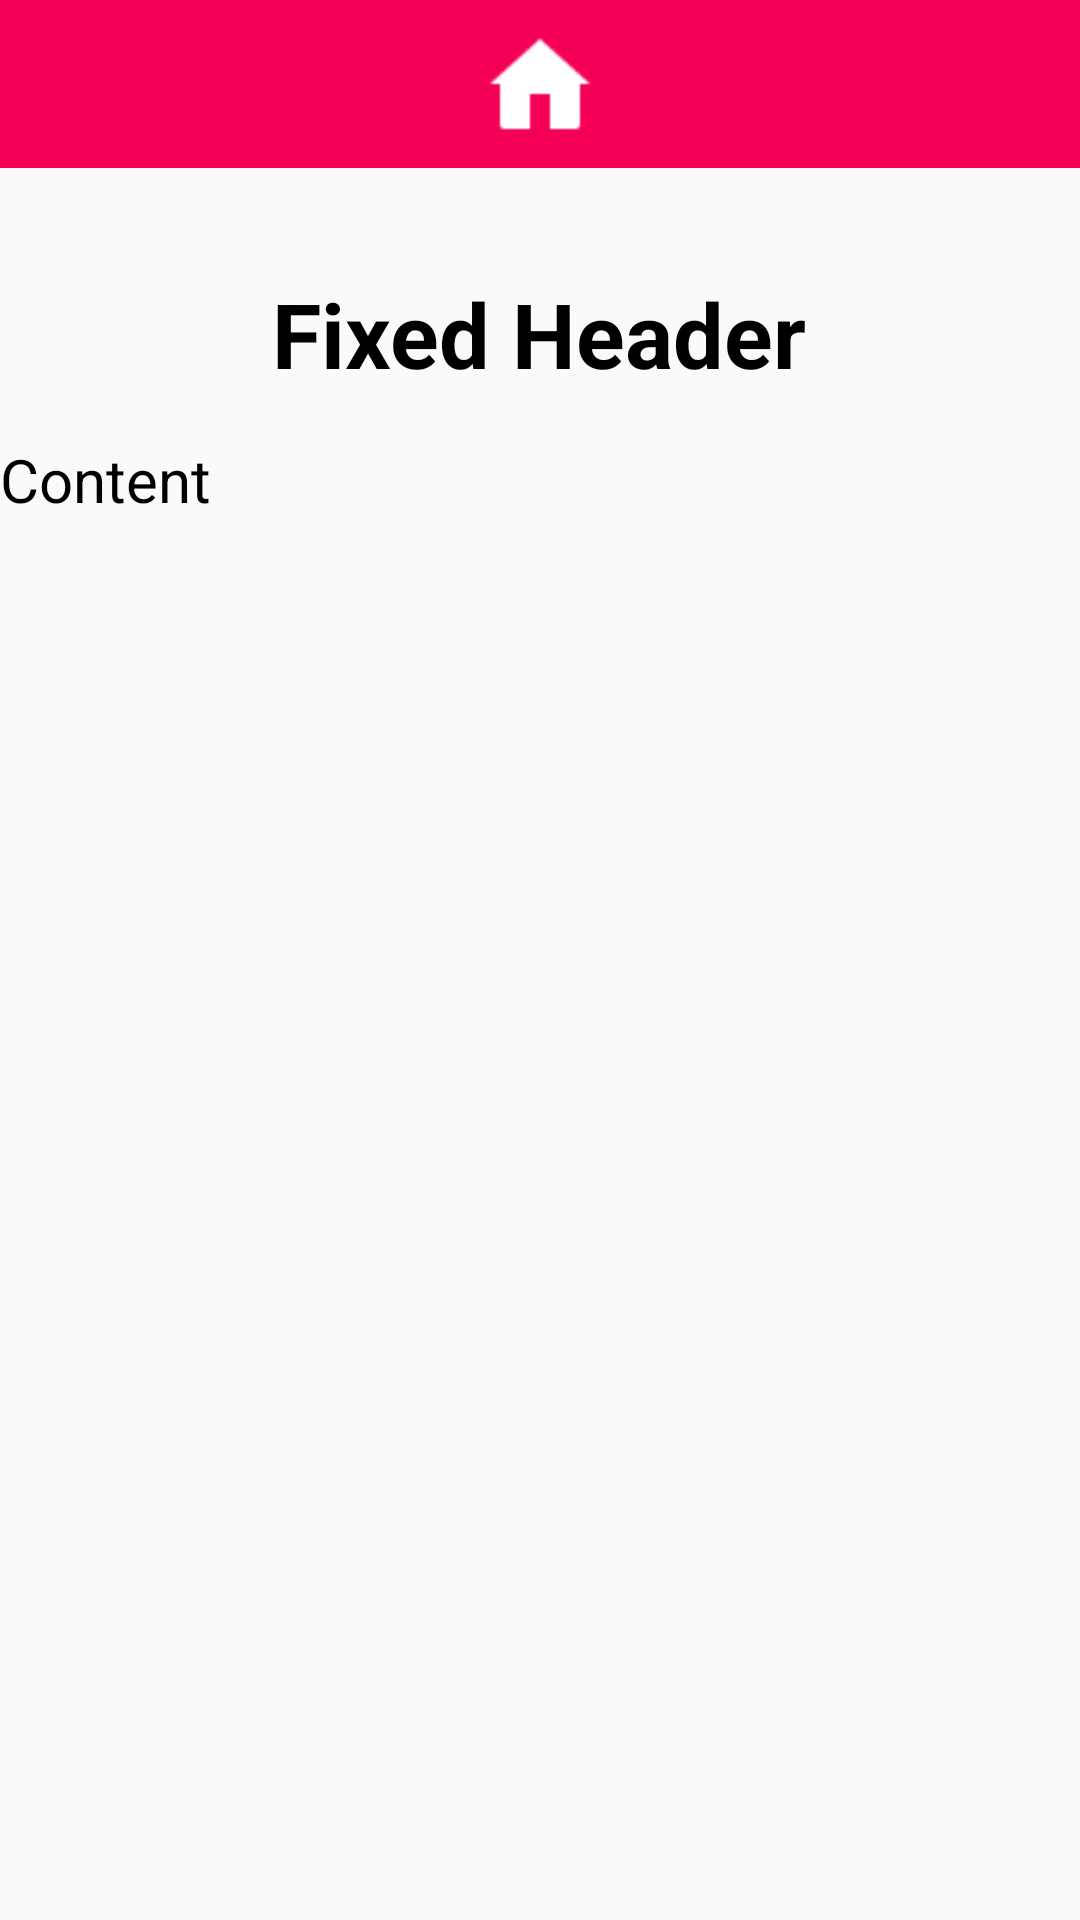

Icon bounding boxes for this 1080 × 1920 phone screenshot, format [left=x1, top=y1, right=x2, bottom=y2]:
home: [left=489, top=38, right=591, bottom=130]
